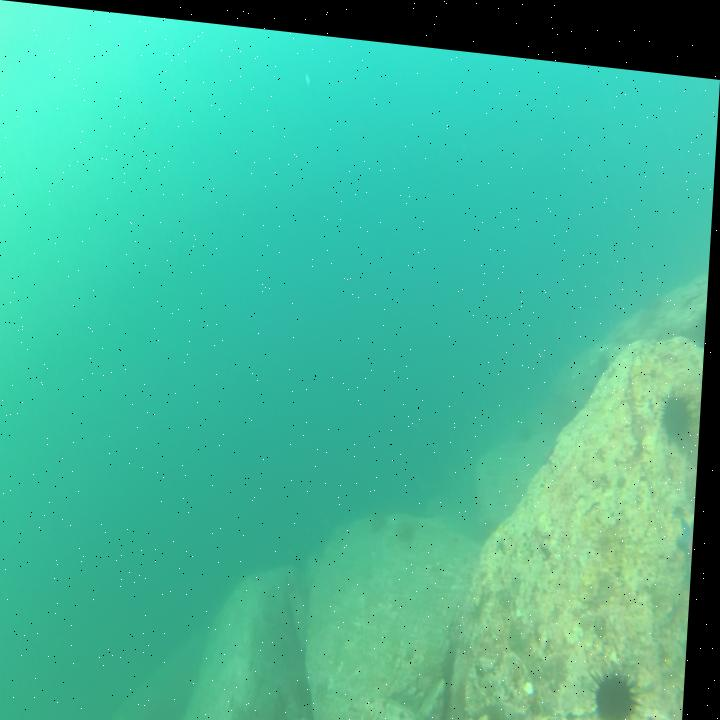echinus: (595, 647, 648, 717), (662, 372, 700, 428)
